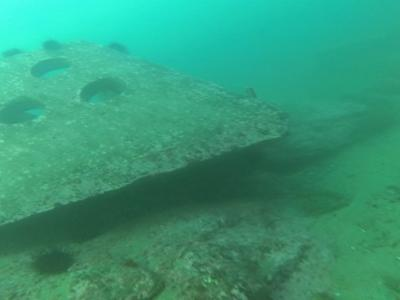urchin: (35, 252, 77, 275), (108, 43, 127, 56), (42, 40, 61, 48)
